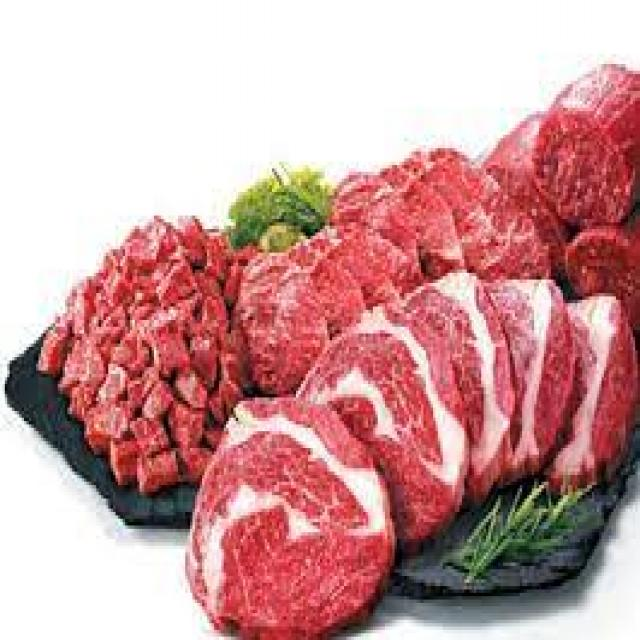Beef: (185, 397, 394, 640)
